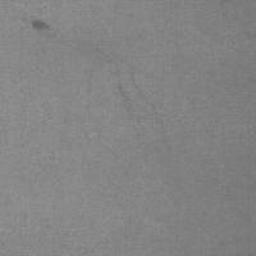Water spot: (92, 44, 170, 154), (31, 20, 50, 31)
